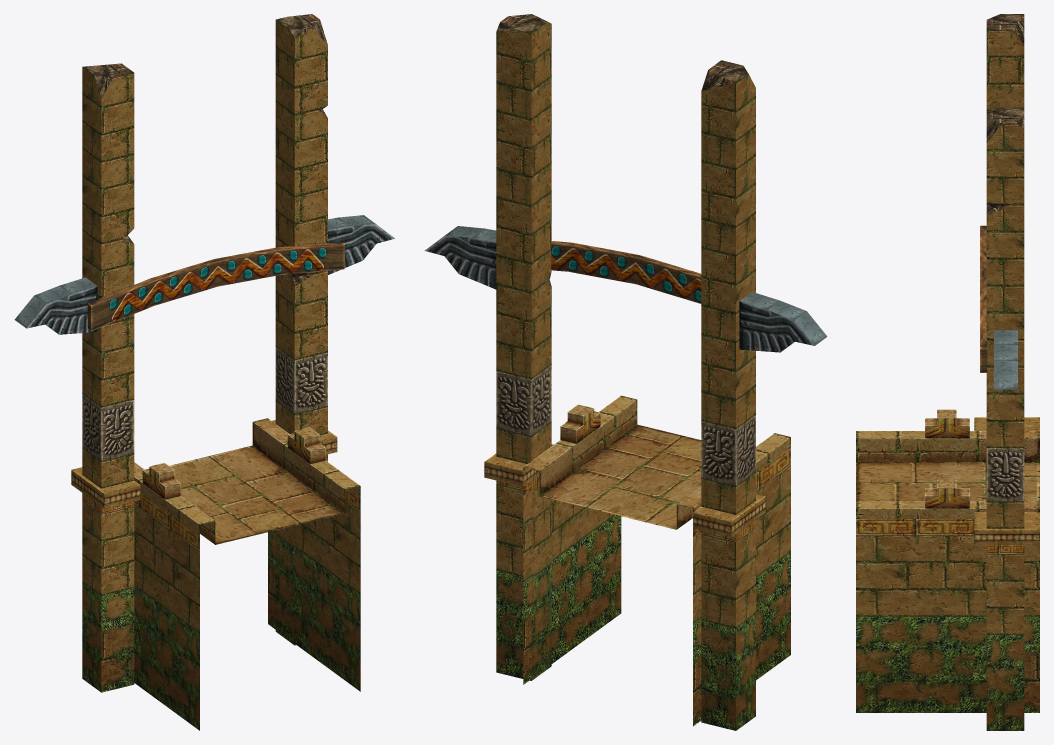
File: TempleRoad04.FBX
3 views of the same model, side by side, from view 1: azimuth 30°, elevation 25°; view 2: azimuth 150°, elevation 25°; view 3: azimuth 270°, elevation 25° (orthographic). The views are drawn at different scales.
Parts seen in each view (by area): view 1: TempleRoad04; view 2: TempleRoad04; view 3: TempleRoad04.
Part boxes in pixels (x1=…): TempleRoad04: x1=14, y1=14, x2=394, y2=730; TempleRoad04: x1=424, y1=14, x2=827, y2=730; TempleRoad04: x1=856, y1=14, x2=1039, y2=730.
Size of the model in its own units: 1149 by 1822 by 500.
